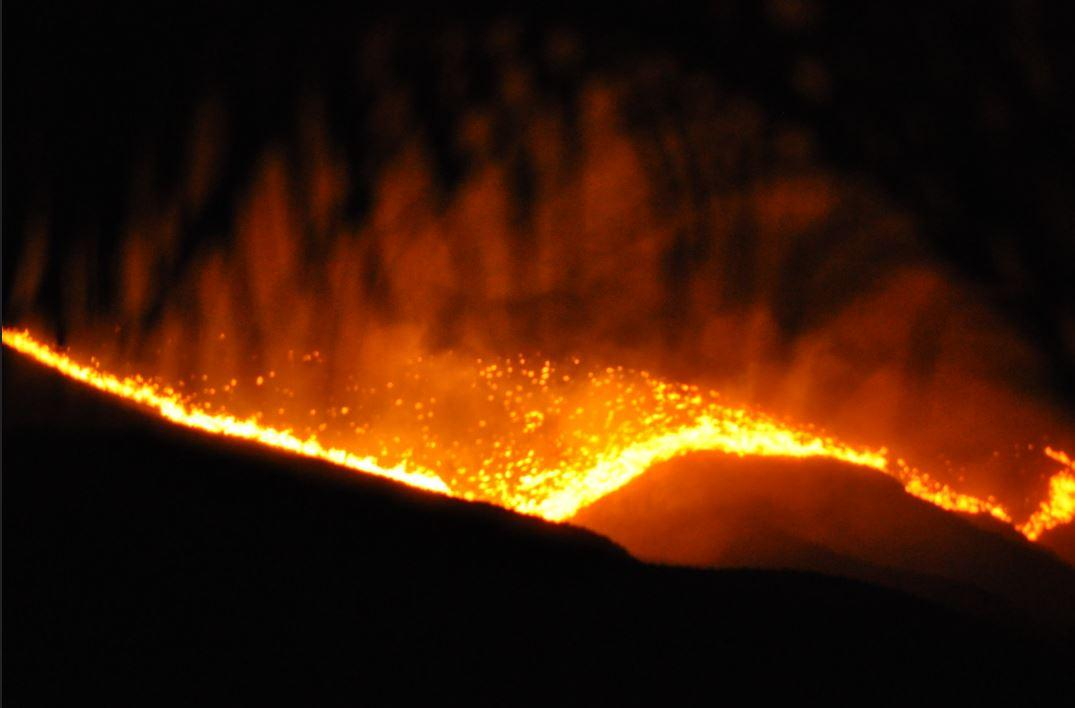Fire: (533, 360, 1073, 543), (6, 322, 456, 501)
